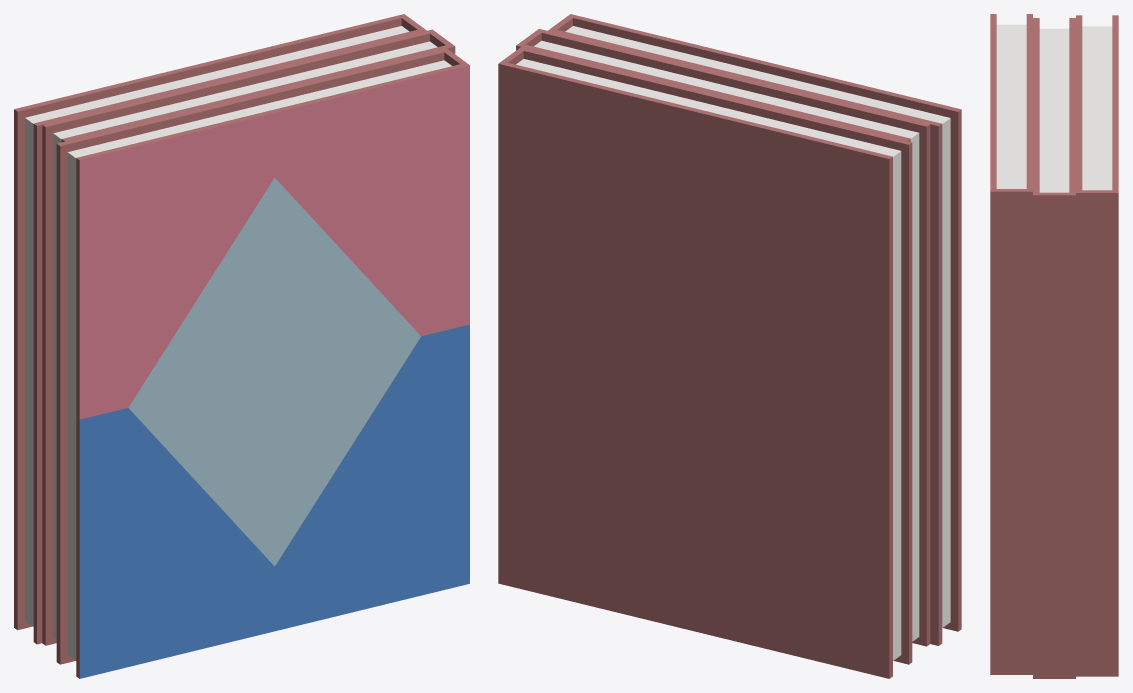
File: Magazines_3.fbx
The picture shows the model from 3 angles, left to right: view 1: azimuth 30°, elevation 25°; view 2: azimuth 150°, elevation 25°; view 3: azimuth 270°, elevation 25°; orthographic projection. The views are drawn at different scales.
Visible parts, largest first — view 1: Magazines_3; view 2: Magazines_3; view 3: Magazines_3.
Boxes of the visible parts, bbox=[...] form: Magazines_3: bbox=[14, 14, 469, 678]; Magazines_3: bbox=[498, 14, 961, 678]; Magazines_3: bbox=[990, 14, 1118, 678].
Bounding box in the file's own units: 32.28 × 9.66 × 40.12.
